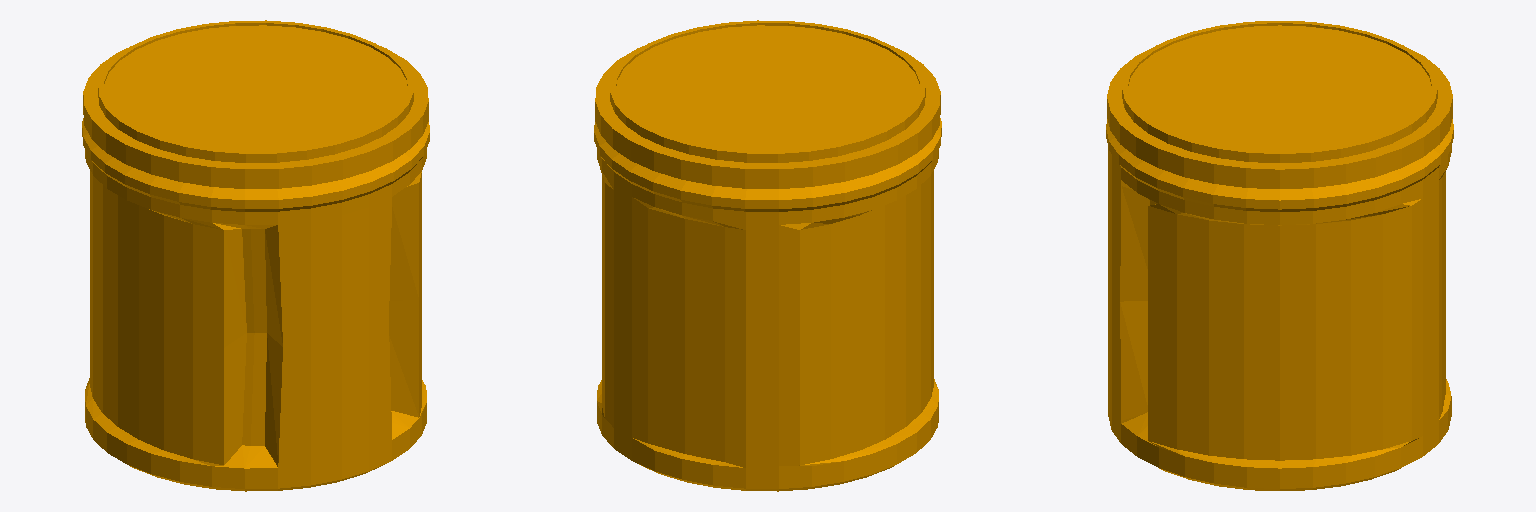
URDF robot description (coffee-jar.off):
<?xml version="1.0"?>
<robot name="coffee-jar.off">
	<link name="coffee-jar.off">
		<inertial>
			<!--origin xyz="0 0 0" rpy="0 0 0" /-->
			<mass value="0.5" />
			<!--inertia ixx="0.000360" ixy="0" ixz="0" iyy="0.0000615" iyz="0" izz="0.00036" /-->
		</inertial>
    		<visual>
	      		<!--origin rpy="0 0 0" xyz="0 0 0"/-->
      			<geometry>
        			<mesh filename="coffee-jar.off.obj"/>
      			</geometry>
         	</visual>
    		<collision>
      			<!--origin rpy="0 0 0" xyz="0 0 0"/-->
      			<geometry>
        			<mesh filename="coffee-jar.off.obj"/>
      			</geometry>
    		</collision>
	</link>
</robot>

--- Facts derived from the render (not from the file) ---
3 views of the same robot in one strip: view 1: azimuth 30°, elevation 25°; view 2: azimuth 150°, elevation 25°; view 3: azimuth 270°, elevation 25° (orthographic).
Model coffee-jar.off with 1 links and 0 joints (none), rooted at coffee-jar.off, posed all joints at 0.
Visible links, largest first — view 1: coffee-jar.off; view 2: coffee-jar.off; view 3: coffee-jar.off.
Link boxes in pixels (x1=…): coffee-jar.off: x1=82, y1=20, x2=429, y2=491; coffee-jar.off: x1=594, y1=20, x2=941, y2=491; coffee-jar.off: x1=1106, y1=21, x2=1453, y2=490.
Size in the robot's own frame: 15.99 by 15.99 by 16.98 metres.
1 mesh visuals loaded from 1 distinct referenced files (1 OBJ).